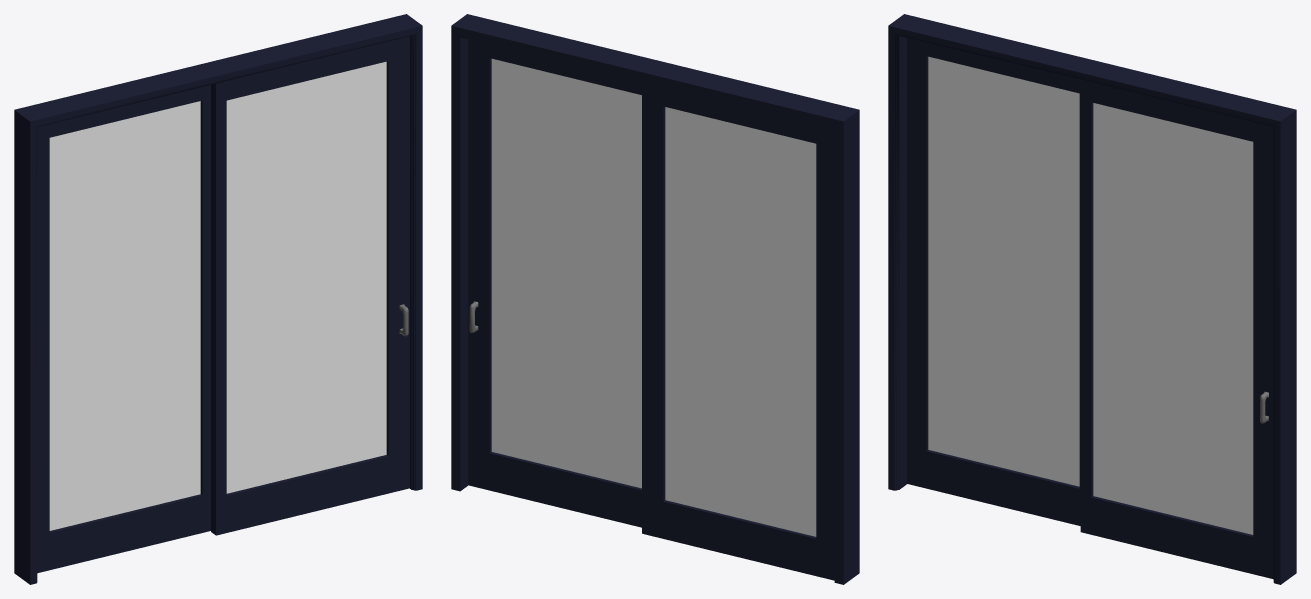
Rendered from sliding_door.glb.
The picture shows the model from 3 angles, left to right: view 1: azimuth 30°, elevation 25°; view 2: azimuth 150°, elevation 25°; view 3: azimuth 330°, elevation 25°; orthographic projection.
Parts seen in each view (by area): view 1: Object_5, Object_4; view 2: Object_5, Object_4; view 3: Object_5, Object_4.
Boxes of the visible parts, x1,y1,x2,y2 form: Object_5: (49, 61, 386, 530); Object_4: (14, 14, 422, 584); Object_5: (491, 58, 816, 536); Object_4: (451, 14, 859, 584); Object_5: (928, 56, 1253, 534); Object_4: (888, 14, 1296, 584).
Bounding box in the file's own units: 1.95 × 2.2 × 0.1549.
